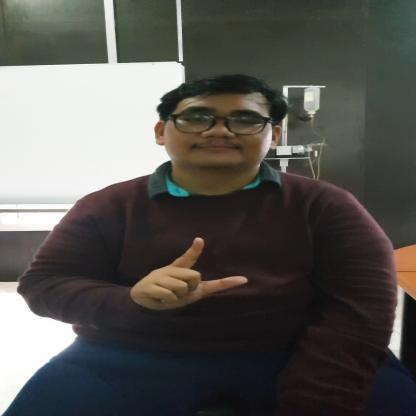L: (132, 236, 252, 315)
